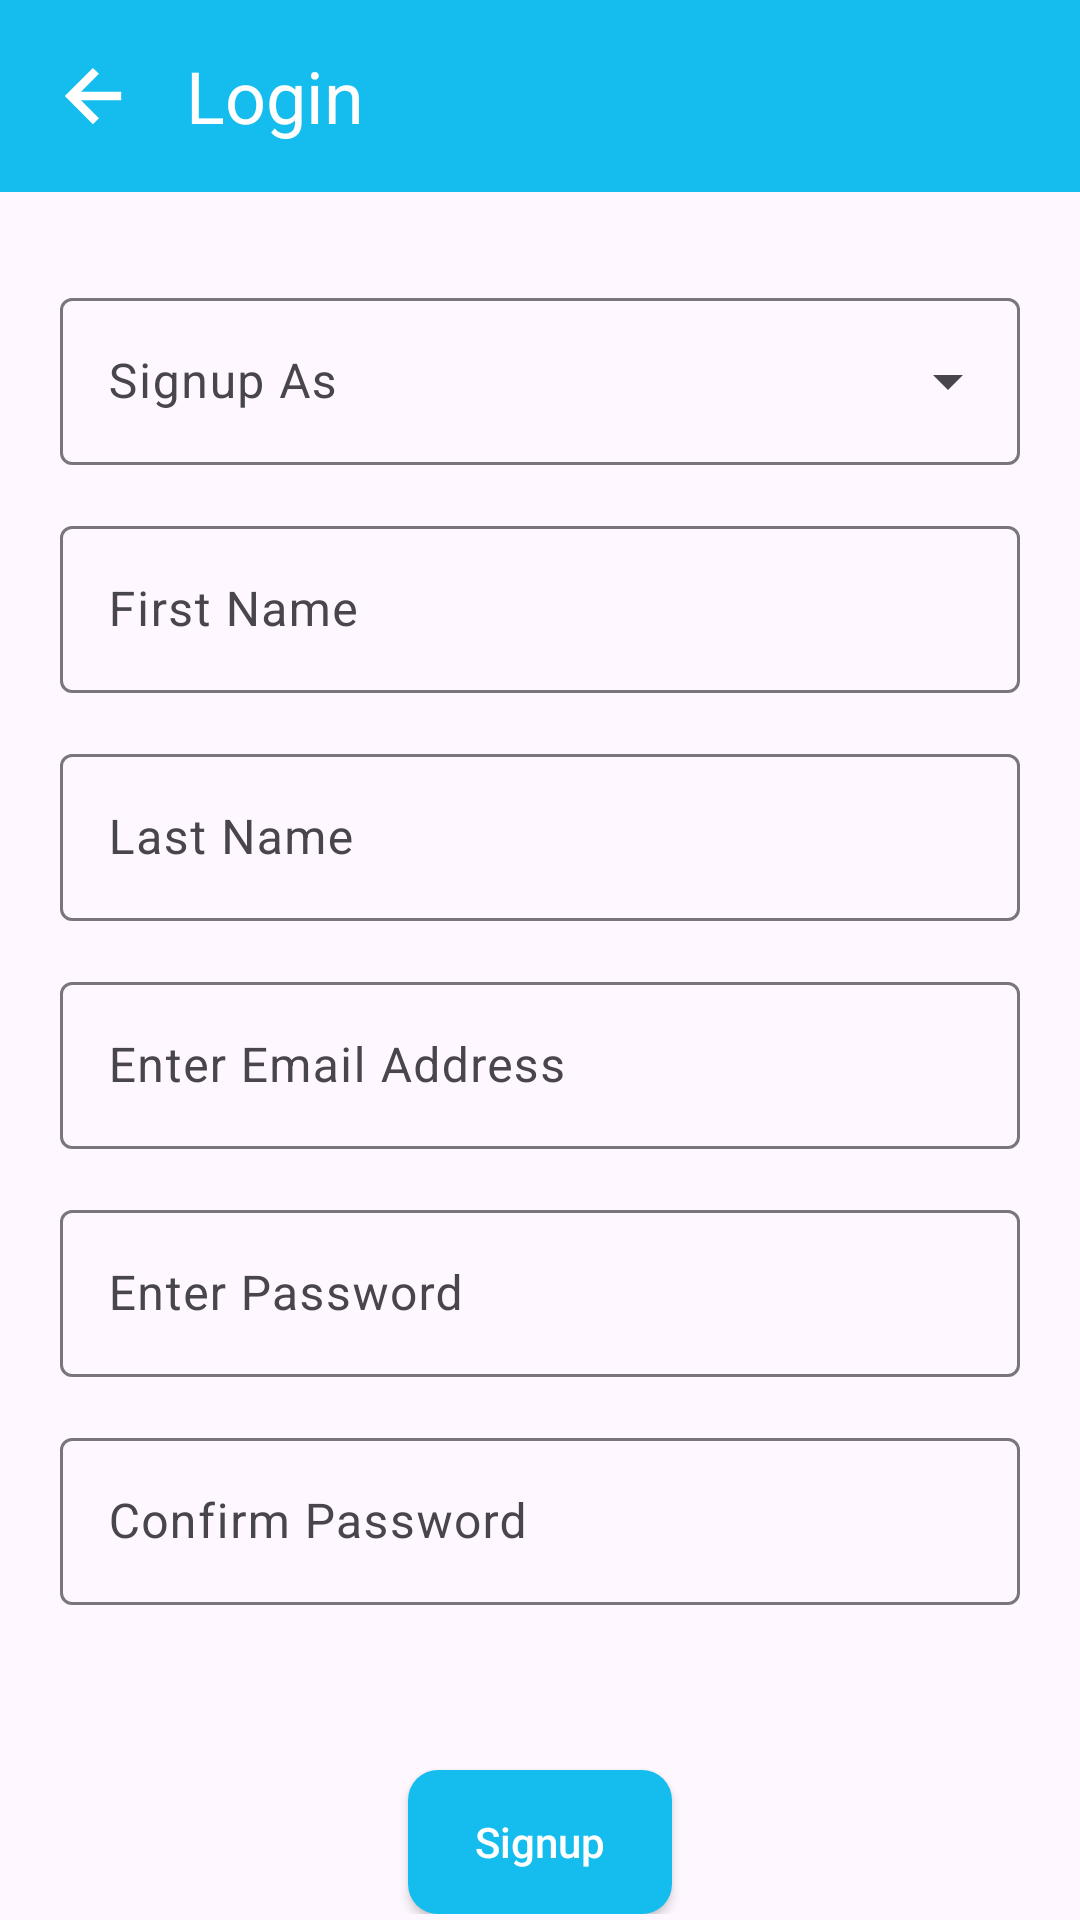

Icons on this 1080×1920 Android screen, each with the point to tap as (x,y):
back: (93,96)
